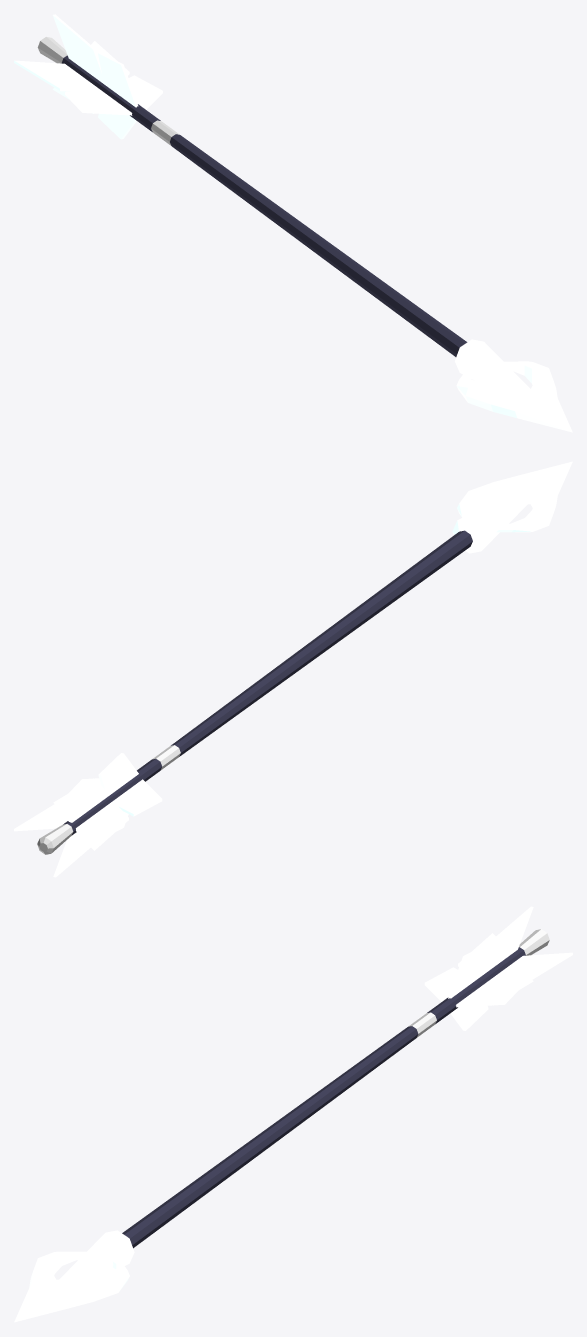
File: SFFA_Arrow_Runical.fbx
The picture shows the model from 3 angles, top to bottom: view 1: azimuth 30°, elevation 25°; view 2: azimuth 150°, elevation 25°; view 3: azimuth 330°, elevation 25°; orthographic projection.
Parts seen in each view (by area): view 1: SFFA_Arrow_Runical; view 2: SFFA_Arrow_Runical; view 3: SFFA_Arrow_Runical.
Part boxes in pixels (<box>): SFFA_Arrow_Runical: <box>14,14,572,432</box>; SFFA_Arrow_Runical: <box>14,461,572,877</box>; SFFA_Arrow_Runical: <box>14,906,572,1322</box>.
Bounding box in the file's own units: 6.71 × 5.58 × 71.87.
